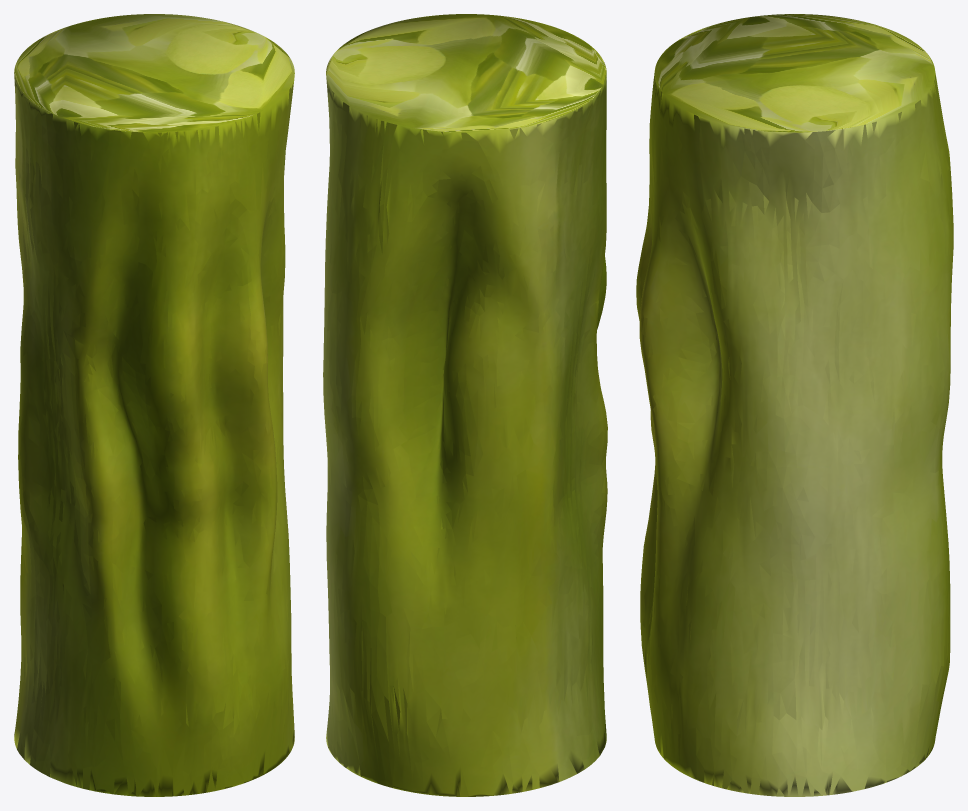
File: stem-c.glb
3 renders of one model, left to right at view 1: azimuth 30°, elevation 25°; view 2: azimuth 150°, elevation 25°; view 3: azimuth 270°, elevation 25°, orthographic.
Parts seen in each view (by area): view 1: CliviaStem_C; view 2: CliviaStem_C; view 3: CliviaStem_C.
Part boxes in pixels (<box>): CliviaStem_C: <box>14,14,294,796</box>; CliviaStem_C: <box>323,14,607,796</box>; CliviaStem_C: <box>636,14,953,796</box>.
Size of the model in its own units: 0.0459 by 0.12 by 0.052.
Materials: 1 (1 with a texture image).
